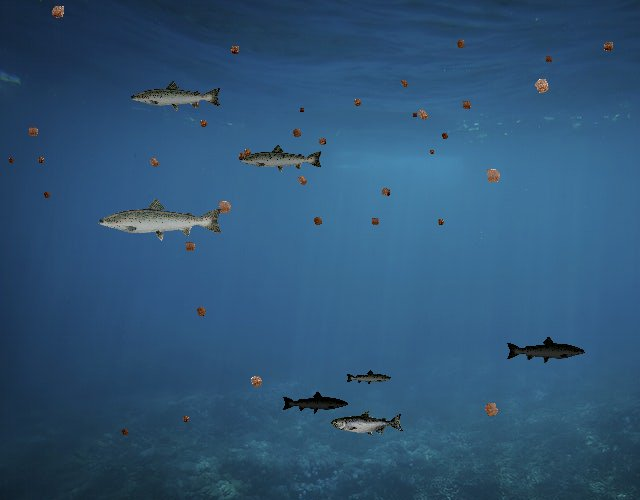Fish: (96, 196, 225, 242), (130, 80, 224, 113), (238, 143, 324, 174), (505, 335, 586, 365), (331, 411, 404, 437), (282, 391, 350, 415), (345, 370, 392, 387)
Pellet: (244, 369, 269, 394), (451, 35, 470, 54), (349, 94, 366, 111), (178, 412, 193, 427), (433, 215, 448, 229), (118, 425, 132, 439), (34, 153, 48, 167)
